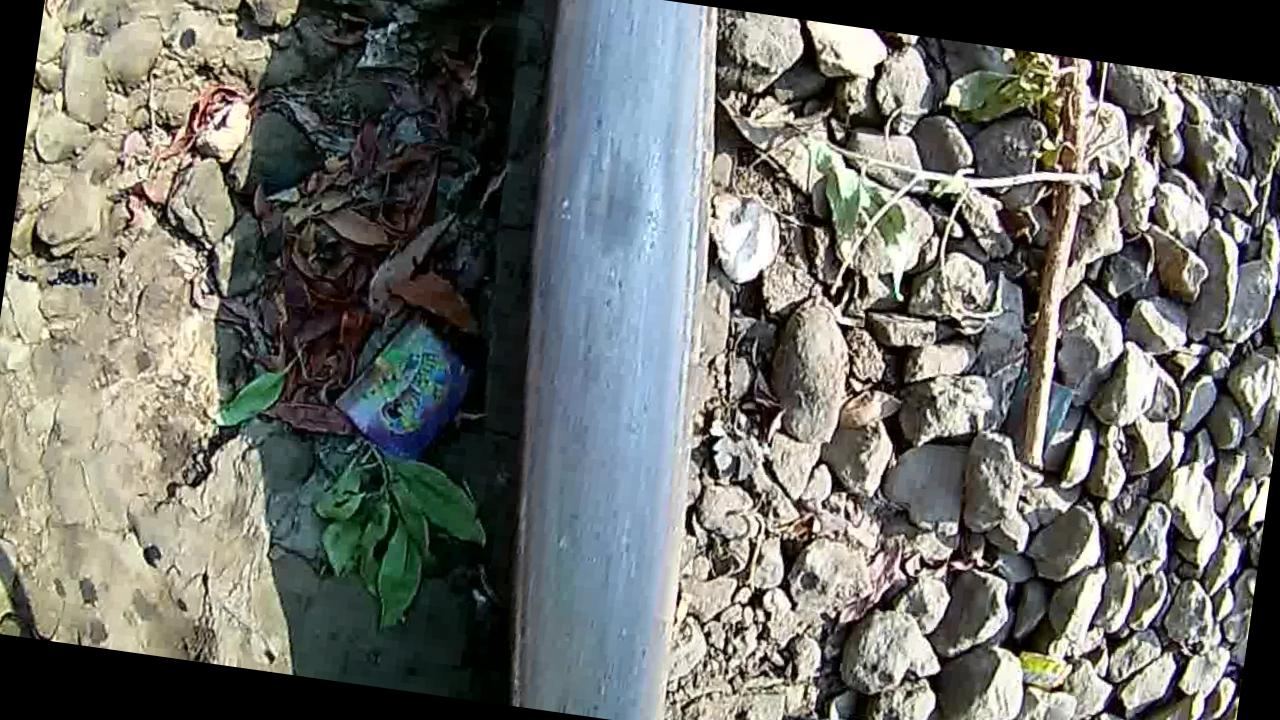bolt_missing: (501, 54, 711, 327)
